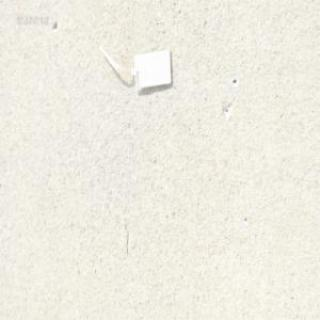LuggageTagtrack_idkeyframe: (96, 46, 172, 94)
